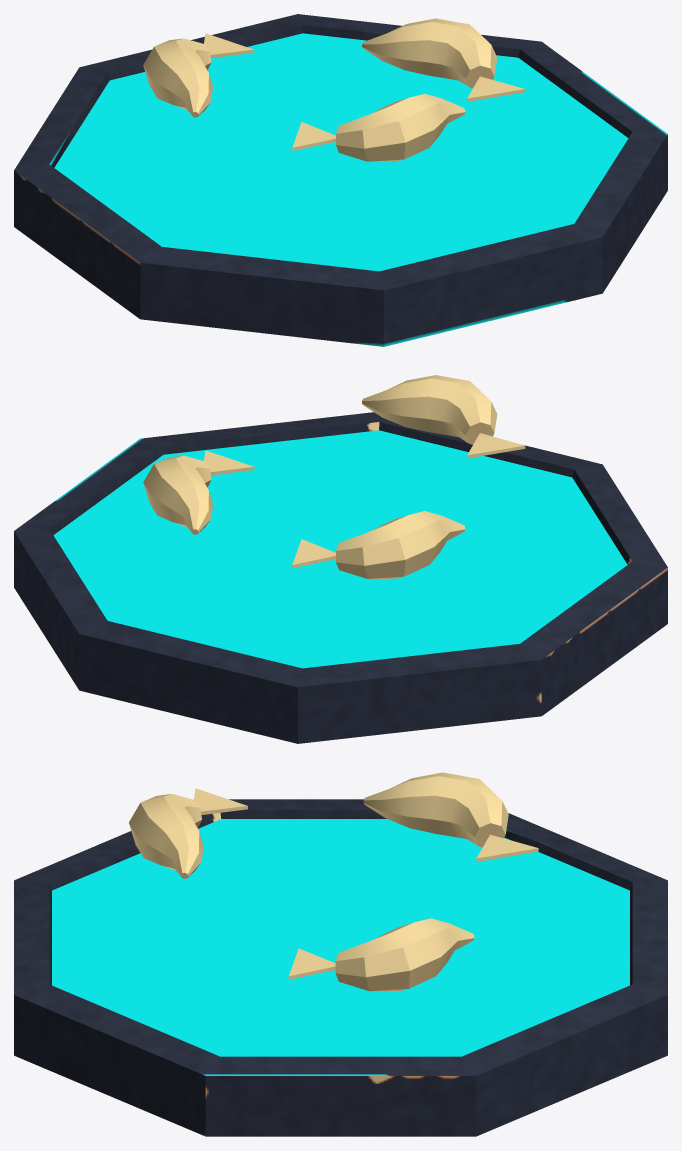
Rendered from holo_koi.fbx.
3 views of the same model, one above another, from view 1: azimuth 30°, elevation 25°; view 2: azimuth 150°, elevation 25°; view 3: azimuth 270°, elevation 25° (orthographic). The views are drawn at different scales.
Visible parts, largest first — view 1: holo_koi_glow2, holo_koi, holo_koi_glow; view 2: holo_koi_glow2, holo_koi, holo_koi_glow; view 3: holo_koi_glow2, holo_koi, holo_koi_glow.
Boxes of the visible parts, x1=… form: holo_koi_glow2: x1=54, y1=33, x2=628, y2=271; holo_koi: x1=14, y1=14, x2=667, y2=346; holo_koi_glow: x1=143, y1=18, x2=525, y2=161; holo_koi_glow2: x1=53, y1=430, x2=627, y2=668; holo_koi: x1=14, y1=412, x2=667, y2=743; holo_koi_glow: x1=143, y1=375, x2=525, y2=578; holo_koi_glow2: x1=52, y1=819, x2=629, y2=1056; holo_koi: x1=14, y1=799, x2=667, y2=1136; holo_koi_glow: x1=129, y1=772, x2=538, y2=991.
Bounding box in the file's own units: 684 × 213 × 684.
1 material, 1 textured.
